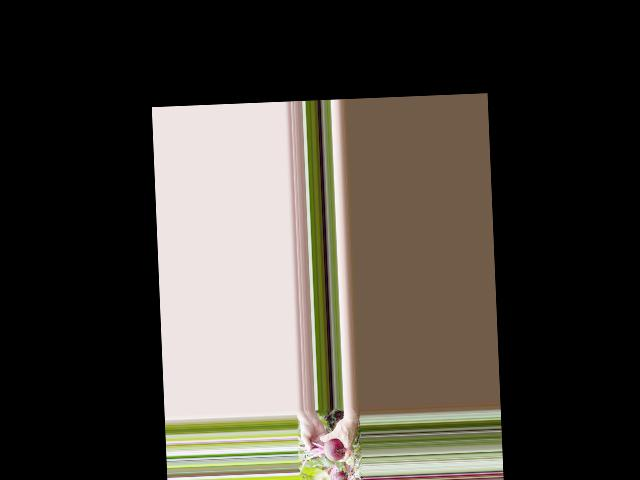beet: (297, 437, 346, 475)
